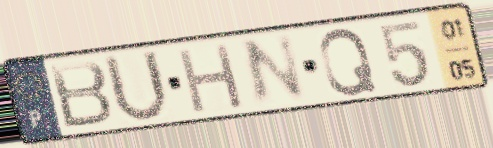5: (375, 17, 433, 88)
B: (45, 58, 116, 132)
H: (174, 41, 247, 117)
N: (239, 30, 310, 111)
Q: (317, 25, 381, 99)
U: (100, 48, 173, 126)
